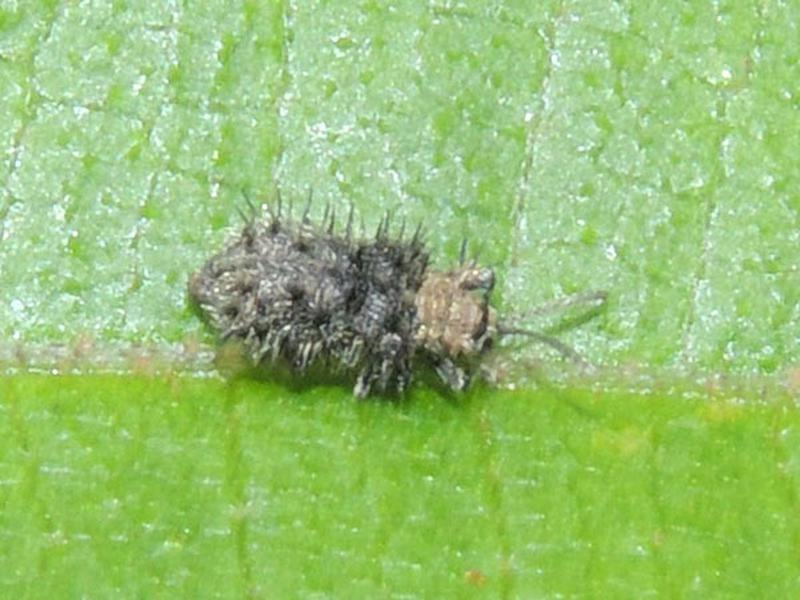Spiny_beetle: (152, 180, 564, 426)
